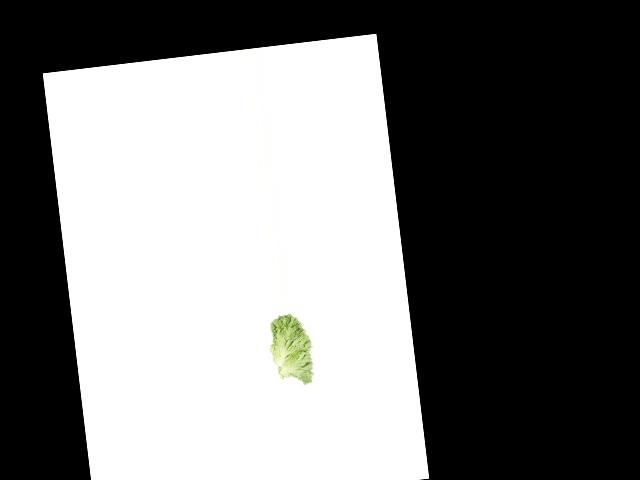lettuce: (263, 310, 321, 388)
